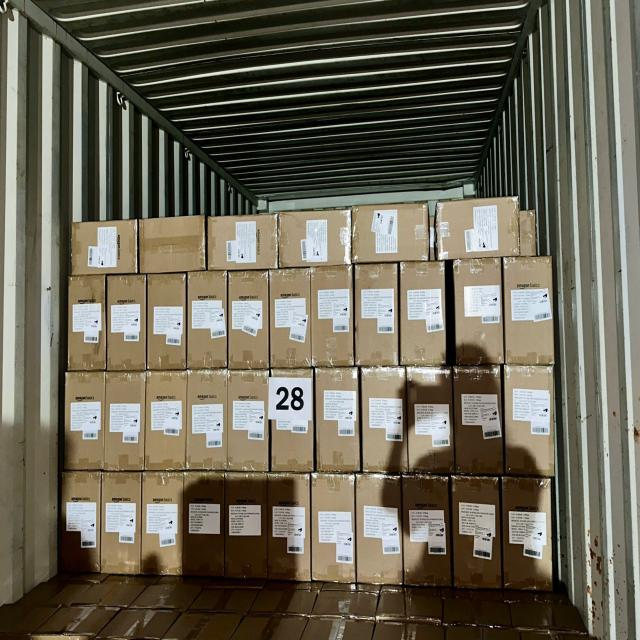Carton: (502, 478, 553, 596), (502, 364, 554, 477), (503, 258, 554, 368), (456, 477, 504, 592), (457, 364, 506, 476), (355, 474, 402, 588), (439, 198, 524, 260), (456, 260, 506, 364), (404, 475, 450, 586), (267, 474, 312, 585), (401, 262, 449, 366), (408, 366, 454, 474), (314, 474, 358, 586), (360, 366, 406, 473), (318, 367, 363, 472), (270, 372, 315, 474), (352, 202, 428, 262), (224, 473, 266, 581), (355, 264, 398, 366), (142, 476, 184, 579), (278, 209, 352, 267), (314, 266, 356, 367), (187, 472, 226, 580), (269, 271, 311, 371), (104, 472, 144, 576), (146, 373, 187, 473), (62, 472, 101, 577), (226, 373, 266, 473), (189, 372, 229, 472), (65, 374, 105, 473), (228, 270, 268, 368), (108, 375, 148, 473), (208, 214, 280, 268), (189, 272, 228, 370), (109, 274, 148, 370), (138, 217, 205, 272), (148, 273, 186, 369), (68, 279, 106, 374), (70, 222, 136, 274)
